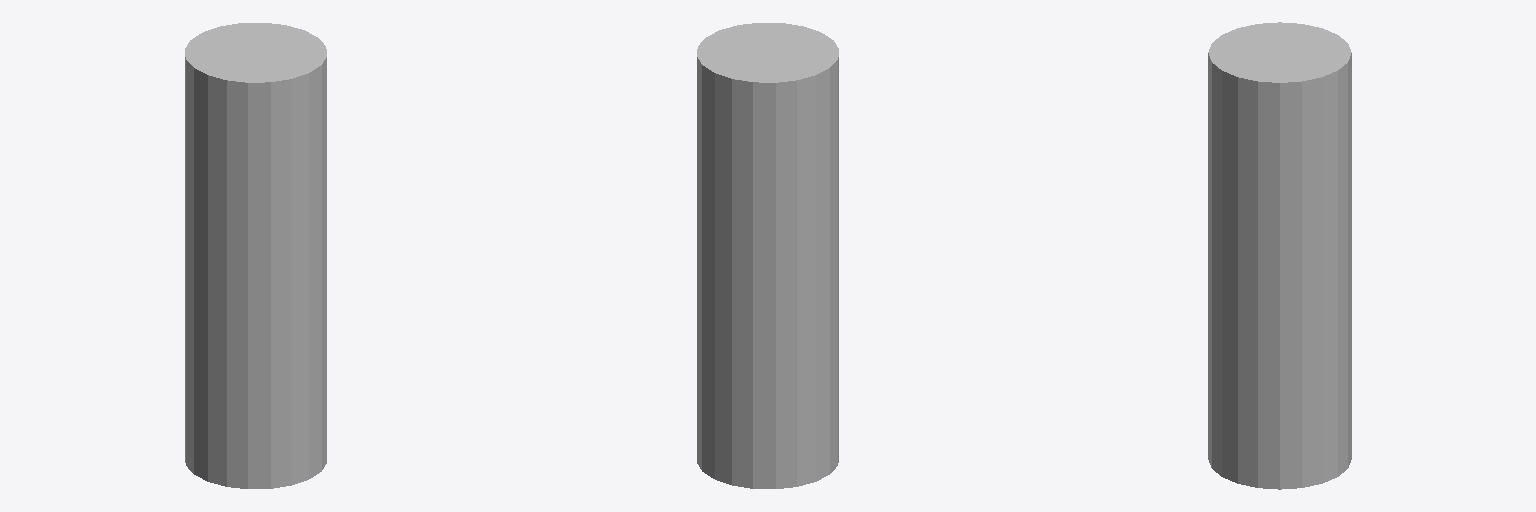
The model's file is Tower_Clg.obj.
3 renders of one model, left to right at view 1: azimuth 30°, elevation 25°; view 2: azimuth 150°, elevation 25°; view 3: azimuth 270°, elevation 25°, orthographic.
Visible parts, largest first — view 1: pCylinder1; view 2: pCylinder1; view 3: pCylinder1.
Boxes of the visible parts, <box> form: pCylinder1: <box>185,23,326,488</box>; pCylinder1: <box>697,23,838,488</box>; pCylinder1: <box>1208,22,1351,489</box>.
Size of the model in its own units: 80 by 250 by 80.